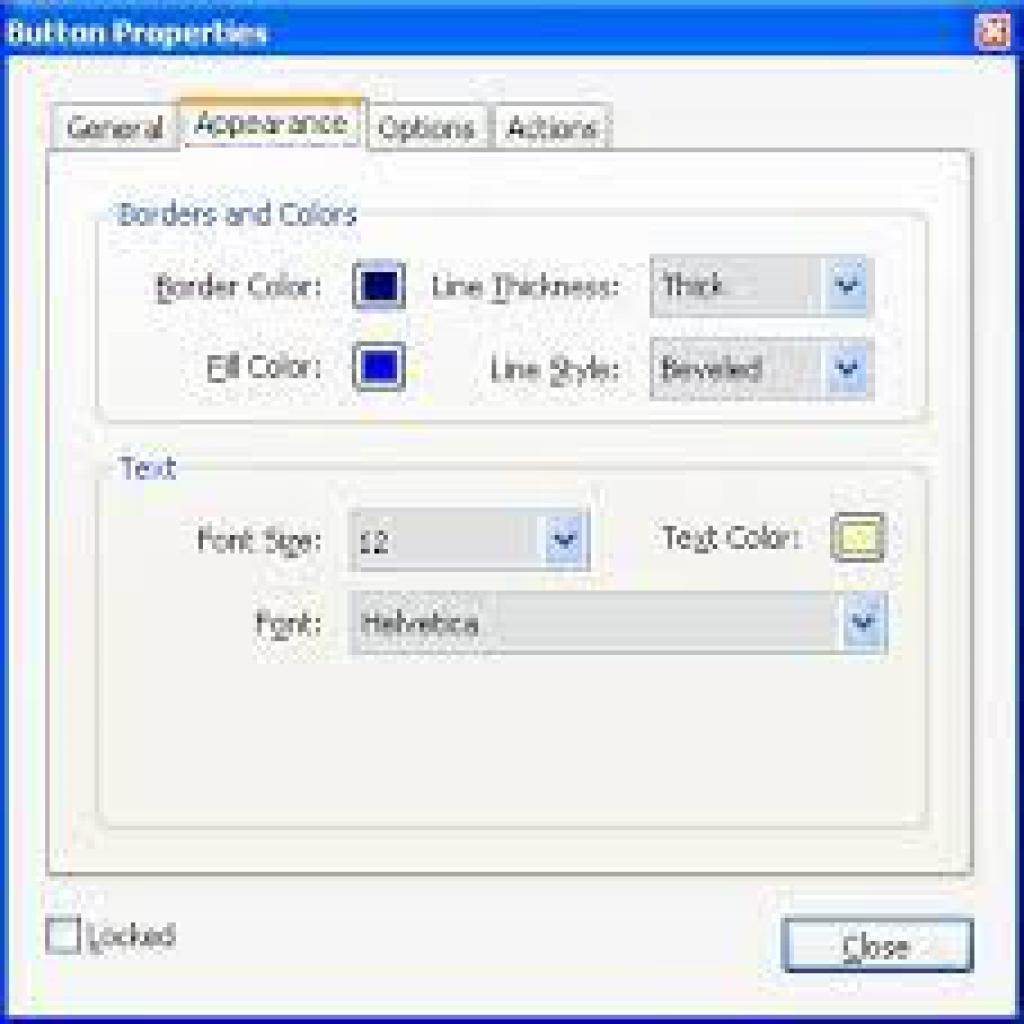button: (782, 917, 975, 974), (181, 101, 367, 152), (51, 100, 178, 151), (497, 102, 612, 150), (371, 104, 491, 149)
checkbox: (831, 512, 889, 562), (356, 342, 409, 393), (354, 264, 406, 309), (47, 918, 82, 953)
dropdown: (352, 590, 887, 654), (347, 507, 590, 573), (649, 336, 878, 404), (650, 254, 879, 318)
